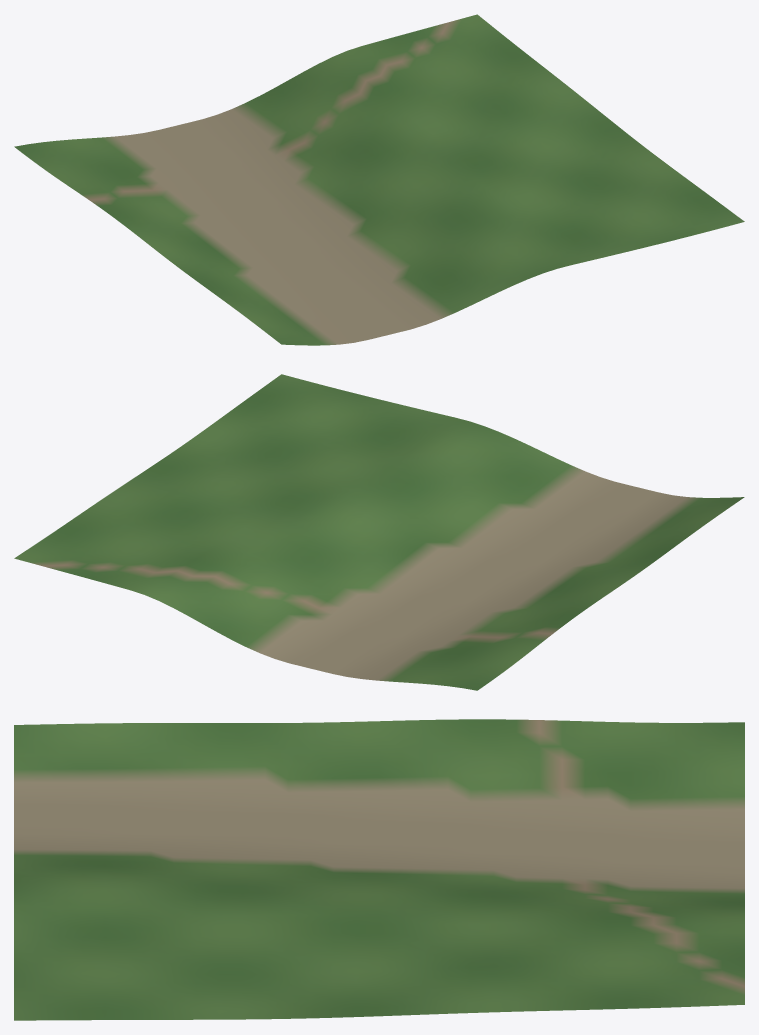
File: chunk_5_8.glb
3 views of the same model, one above another, from view 1: azimuth 30°, elevation 25°; view 2: azimuth 150°, elevation 25°; view 3: azimuth 270°, elevation 25° (orthographic). The views are drawn at different scales.
Bounding box in the file's own units: 512 × 39.85 × 512.
